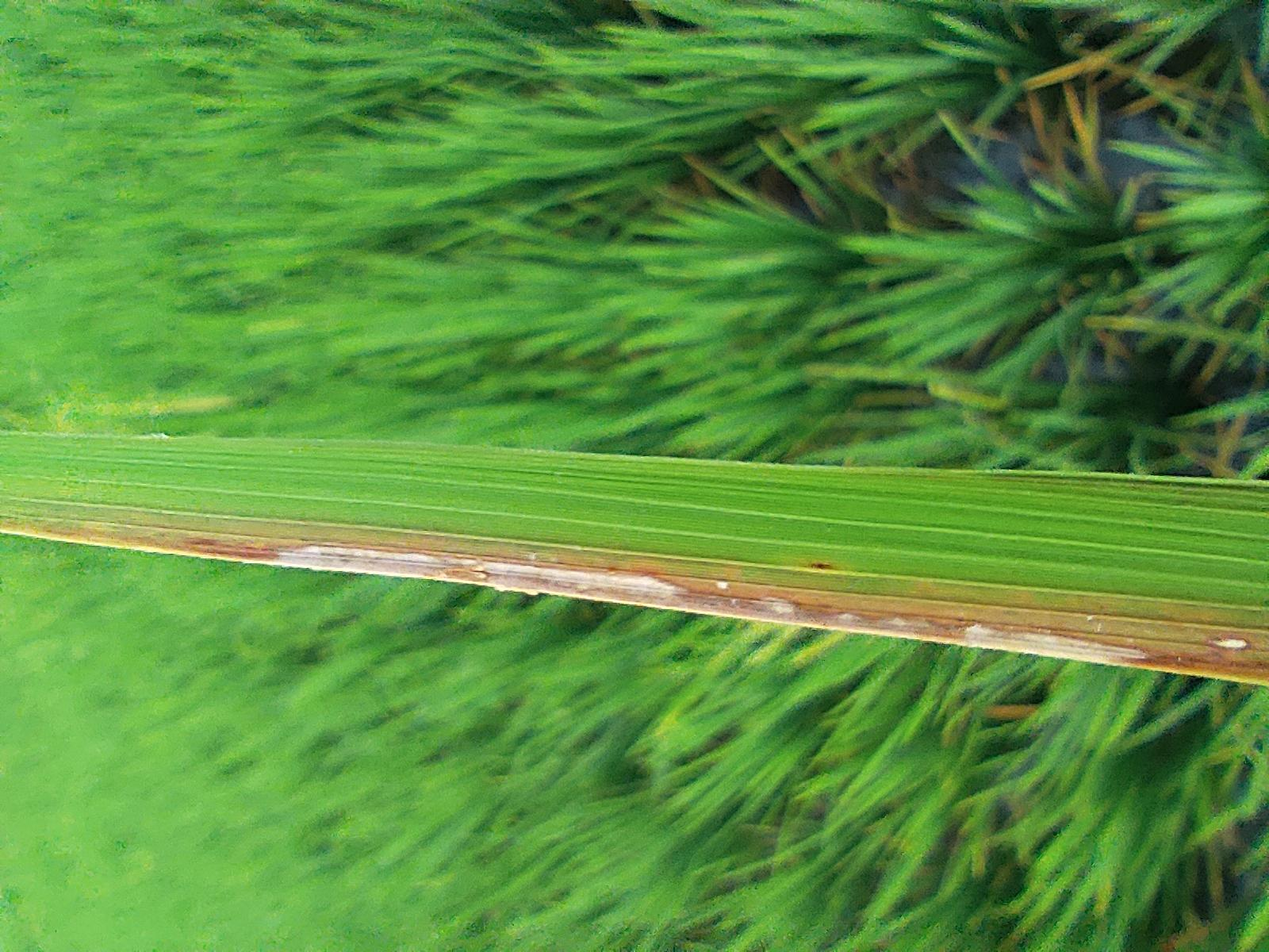BLB: (379, 143, 551, 860)
LEAF: (354, 0, 692, 951)
